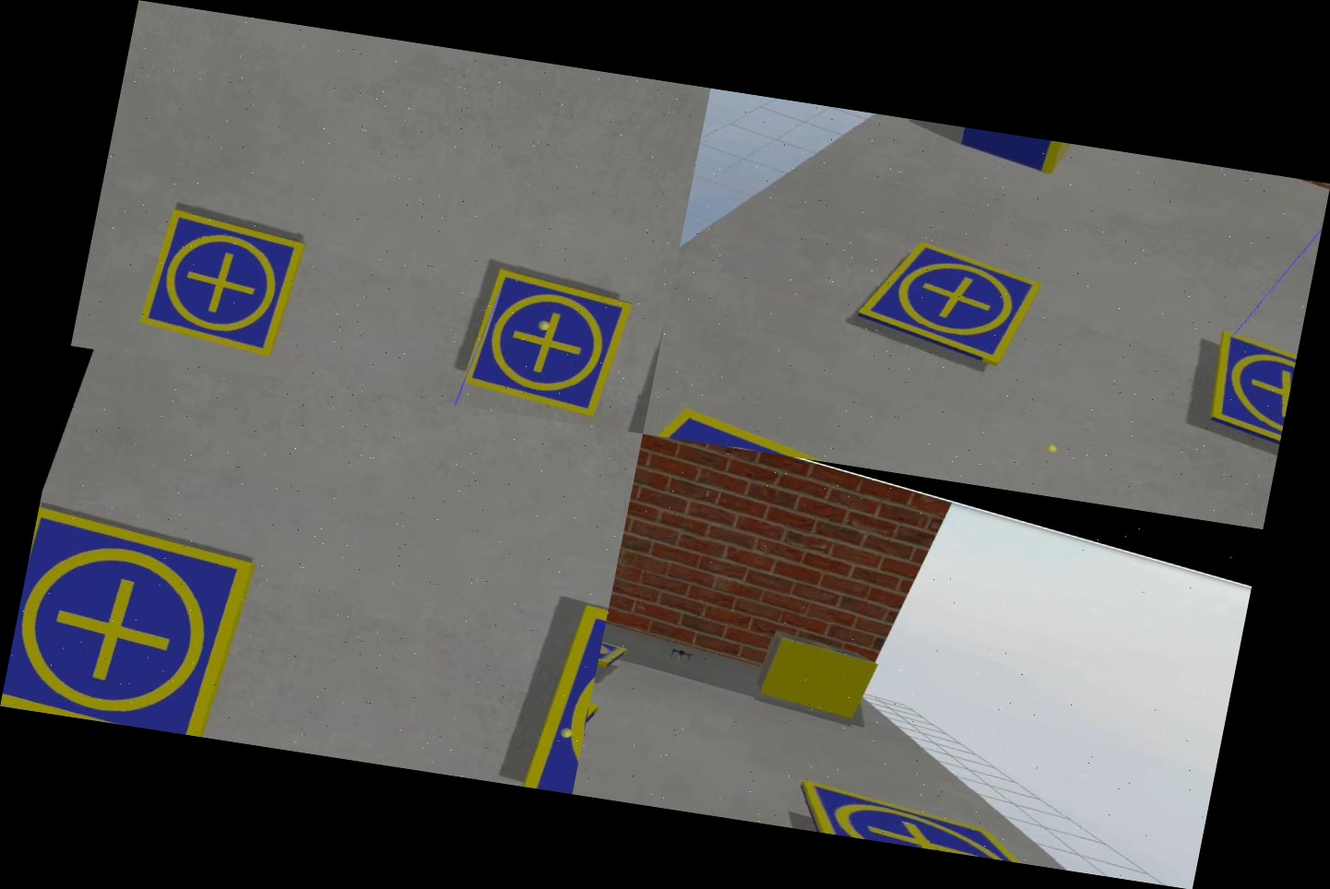small_base: (0, 501, 271, 741), (778, 774, 1130, 878), (128, 203, 317, 366), (455, 262, 642, 425), (849, 229, 1047, 373), (1183, 327, 1299, 464), (596, 628, 635, 678)
